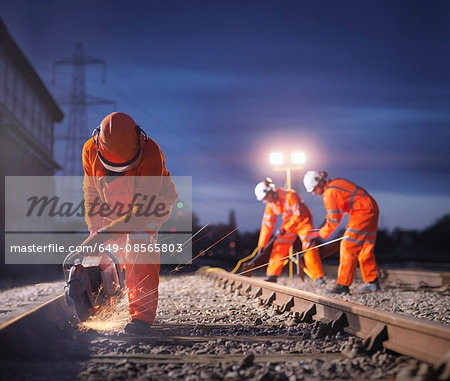white: (303, 170, 327, 196), (254, 180, 277, 203)
yellow: (92, 114, 144, 172)
